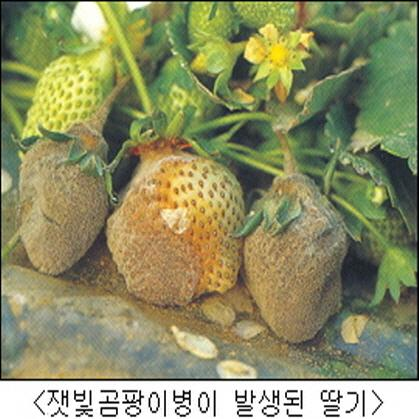Gray Mold: (105, 134, 245, 307), (237, 170, 352, 346), (16, 122, 109, 276)
